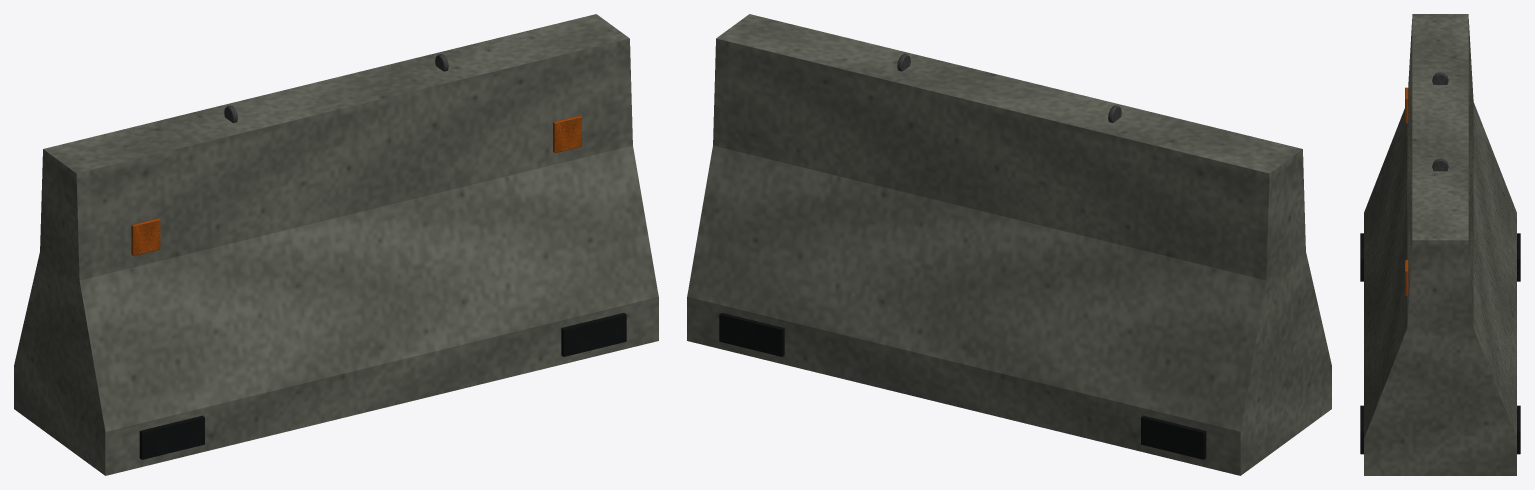
The model's file is barrier.glb.
The picture shows the model from 3 angles, left to right: view 1: azimuth 30°, elevation 25°; view 2: azimuth 150°, elevation 25°; view 3: azimuth 270°, elevation 25°; orthographic projection. The views are drawn at different scales.
Visible parts, largest first — view 1: body_concrete, body_darksteel, body_amber; view 2: body_concrete, body_darksteel; view 3: body_concrete, body_darksteel, body_steel, body_amber.
Boxes of the visible parts, x1,y1,x2,y2 form: body_concrete: (14,14,658,475); body_darksteel: (139,313,626,459); body_amber: (131,115,581,255); body_concrete: (687,14,1331,475); body_darksteel: (719,313,1206,459); body_concrete: (1364,14,1516,475); body_darksteel: (1360,233,1520,454); body_steel: (1432,72,1448,171); body_amber: (1405,87,1408,295).
Size of the model in its own units: 2.1 by 1.07 by 0.63.
4 materials, 4 textured.
